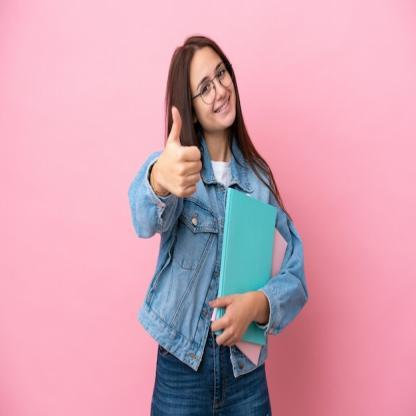thumb_up: (154, 103, 202, 203)
